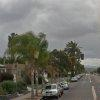Palm tree: (13, 26, 41, 98)
